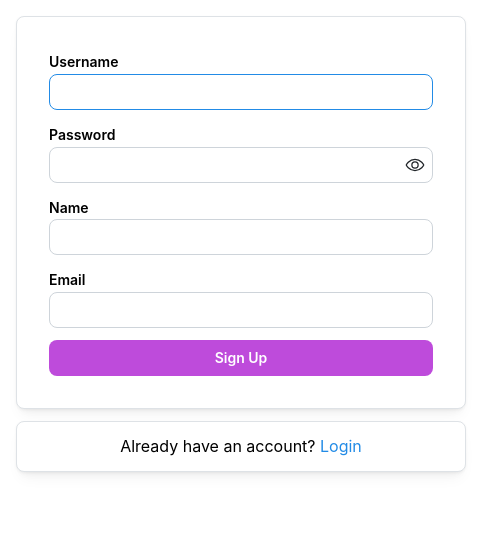
Test: Signup › shows validation message on 400 response
Type "alice" into the field labelled "Username" at (241, 92), box [49,74,433,110]
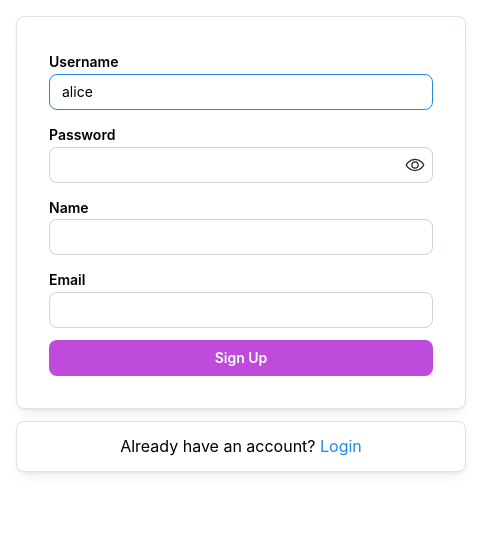
Type "secret" into the password field labelled "Password" at (241, 165), box [50,148,432,182]
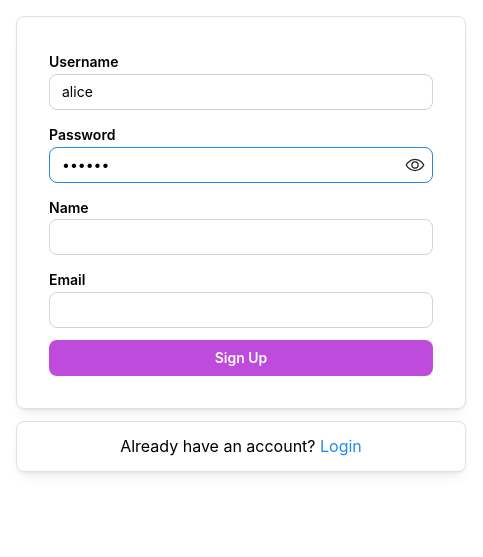
Type "Alice" into the field labelled "Name" at (241, 237), box [49,219,433,255]
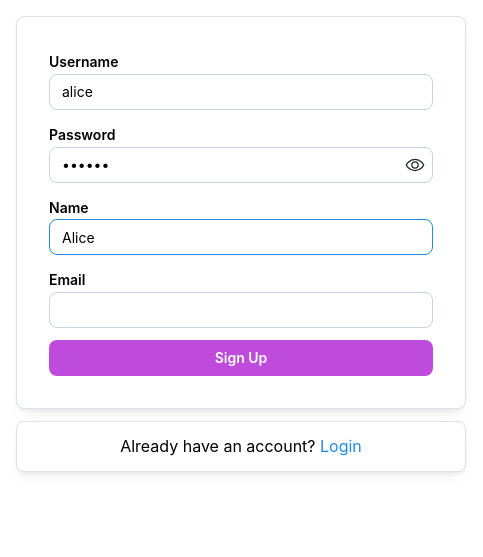
Type "alice@example.com" into the field labelled "Email" at (241, 310), box [49,292,433,328]
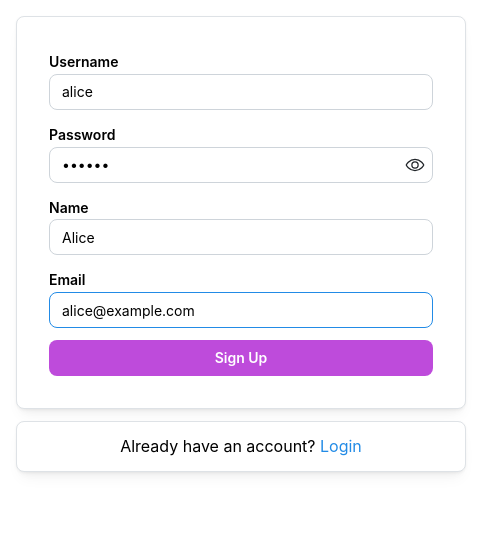
Click the button "Sign Up" at (241, 358), box [49,340,433,376]
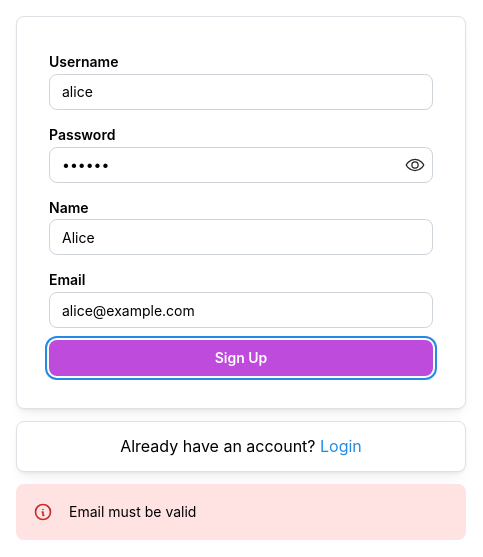
Expected: the text "Email must be valid" is shown, [69,503,196,520]
